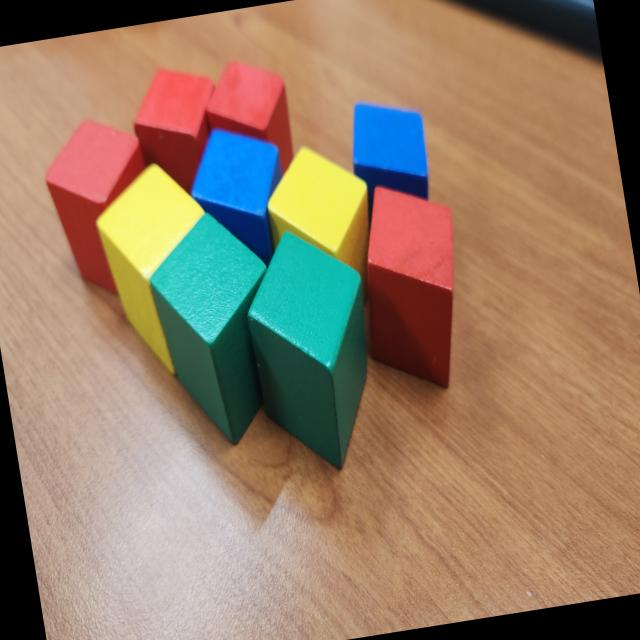blue: (180, 117, 302, 276), (342, 92, 436, 214)
green: (235, 218, 396, 482), (136, 202, 298, 456)
red: (342, 174, 483, 402), (36, 109, 168, 304), (196, 51, 304, 208), (124, 58, 232, 202)
yellow: (86, 153, 230, 384), (258, 136, 383, 301)
